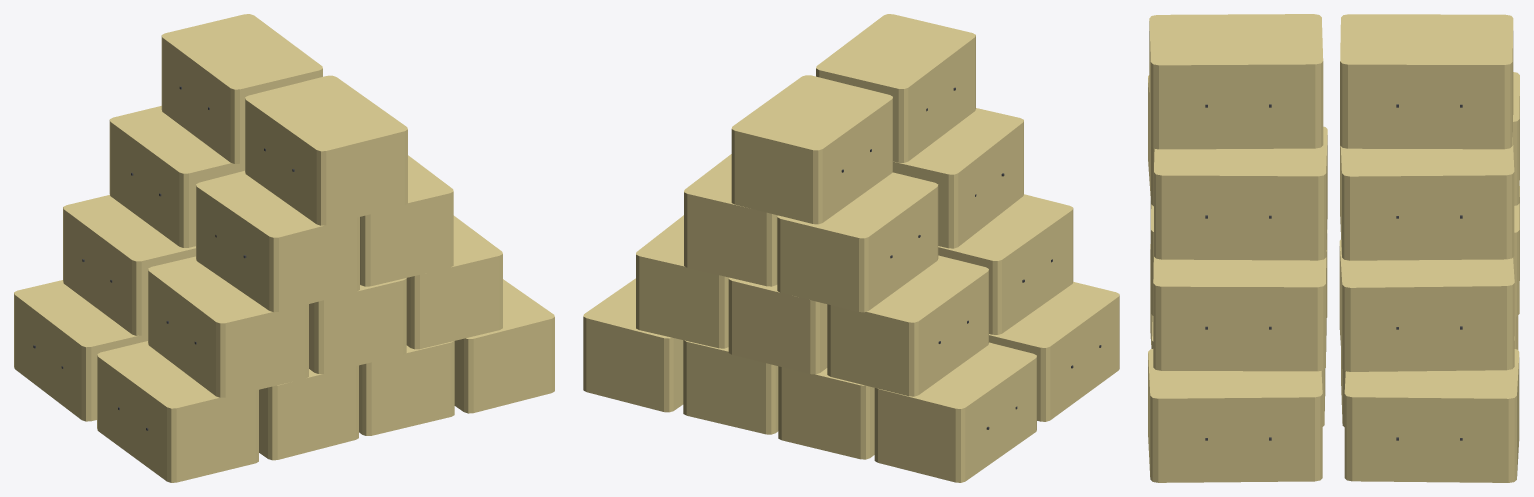
The model's file is arable-fields-and-farm-machinery-square-bale-stack-ea51bd62__16893.glb.
3 renders of one model, left to right at view 1: azimuth 30°, elevation 25°; view 2: azimuth 150°, elevation 25°; view 3: azimuth 270°, elevation 25°, orthographic. The views are drawn at different scales.
Parts seen in each view (by area): view 1: square-bale-stack; view 2: square-bale-stack; view 3: square-bale-stack.
Boxes of the visible parts, x1,y1,x2,y2 form: square-bale-stack: (14,14,554,482); square-bale-stack: (583,14,1119,482); square-bale-stack: (1148,14,1519,482).
Size of the model in its own units: 3.8 by 2.8 by 2.8.
